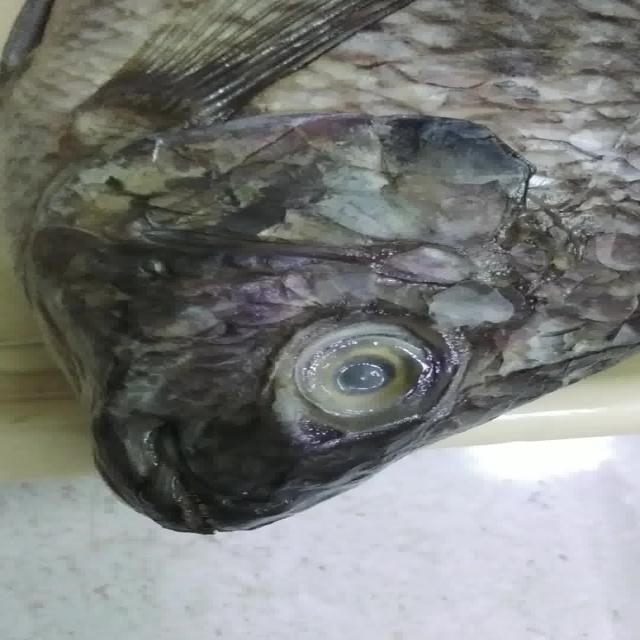Non-Fresh: (279, 309, 464, 432)
